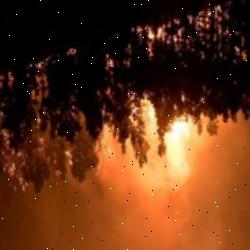fire: (0, 8, 204, 170)
